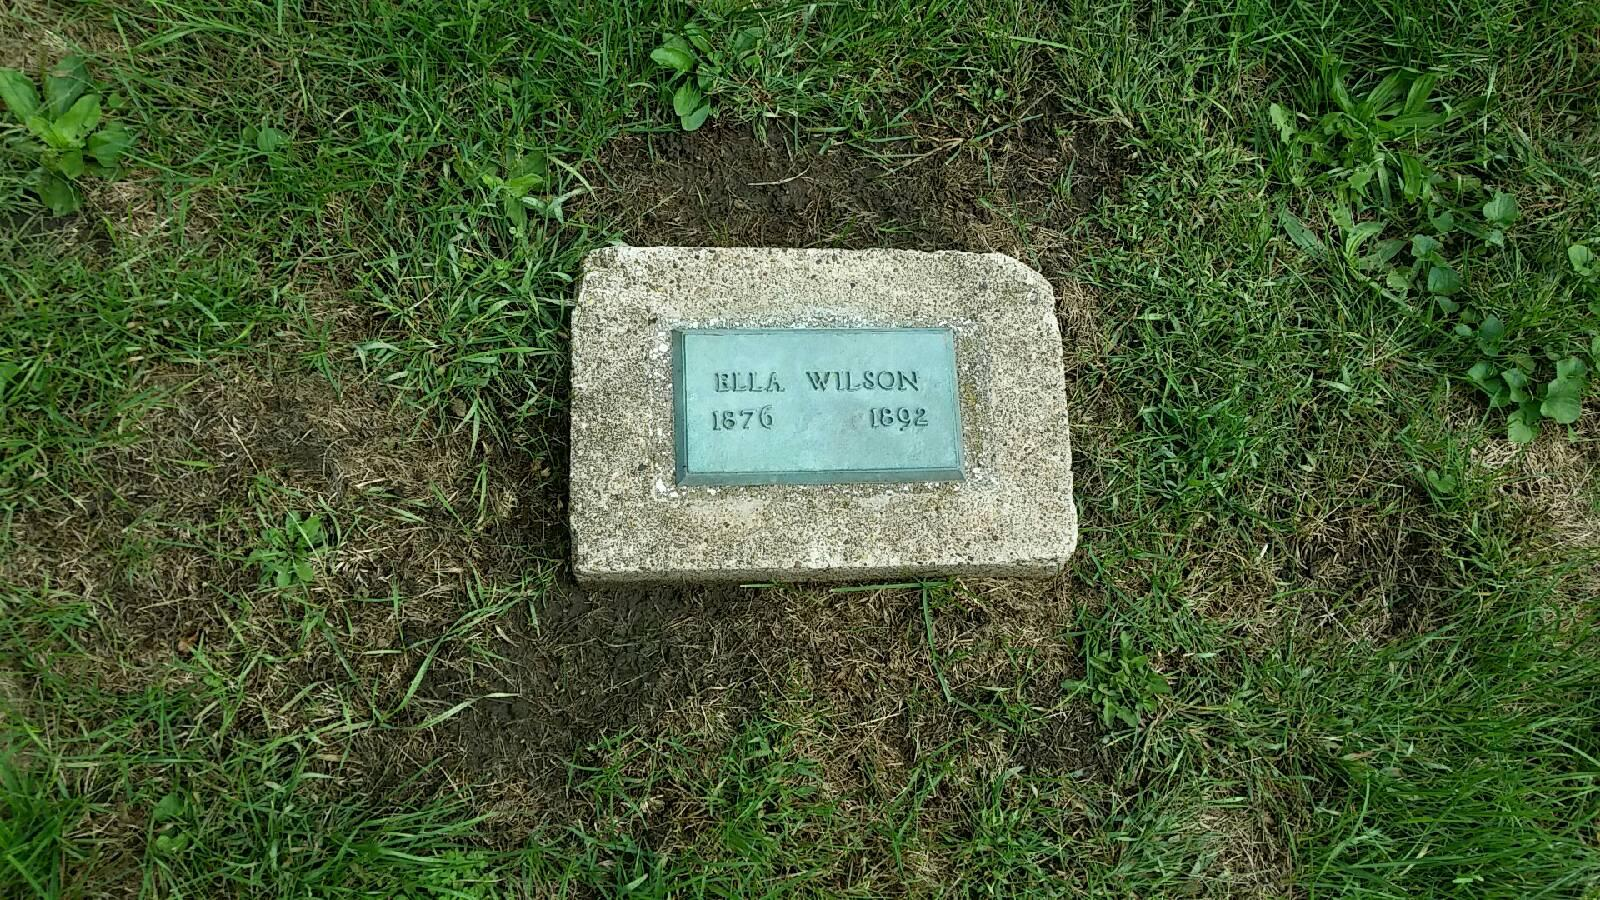flat: (563, 232, 1075, 582)
